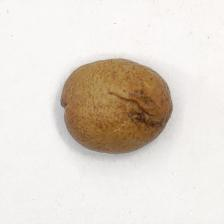NG: (111, 85, 171, 136)
